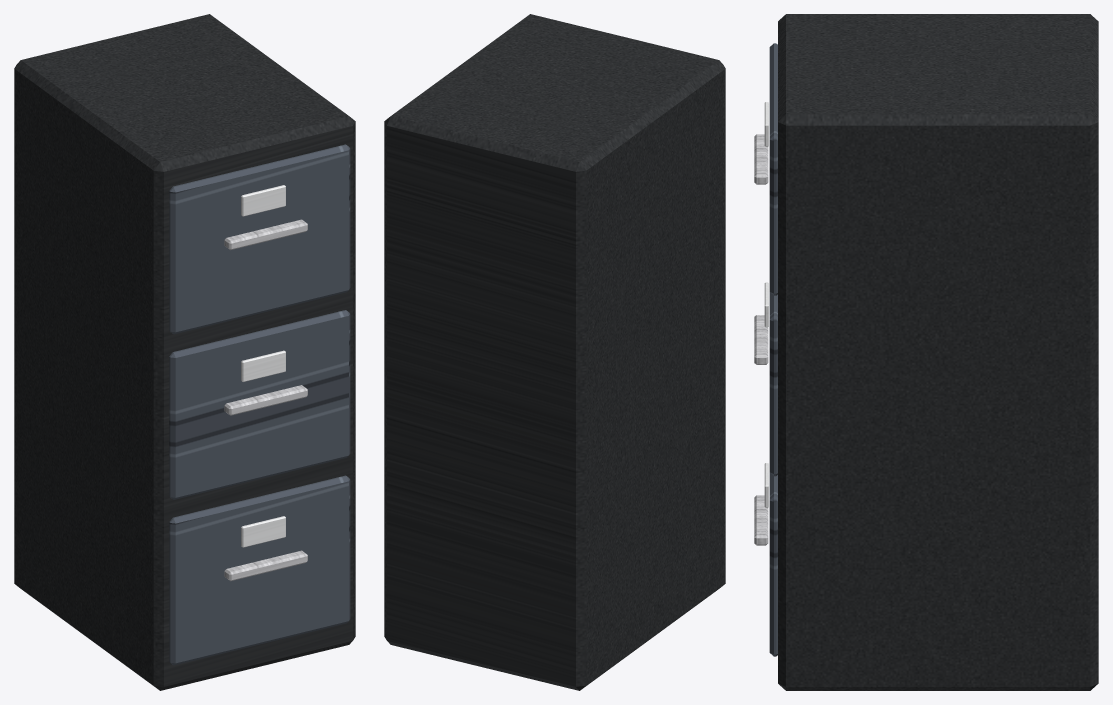
The model's file is 04_Archivador_Metalico.obj.
3 views of the same model, side by side, from view 1: azimuth 30°, elevation 25°; view 2: azimuth 150°, elevation 25°; view 3: azimuth 270°, elevation 25° (orthographic). The views are drawn at different scales.
Visible parts, largest first — view 1: 04_Archivador_Metalico; view 2: 04_Archivador_Metalico; view 3: 04_Archivador_Metalico.
Part boxes in pixels (bbox=[...]): 04_Archivador_Metalico: bbox=[14, 14, 355, 690]; 04_Archivador_Metalico: bbox=[384, 14, 725, 690]; 04_Archivador_Metalico: bbox=[754, 14, 1098, 690].
Size of the model in its own units: 0.46 by 1.15 by 0.6225.
